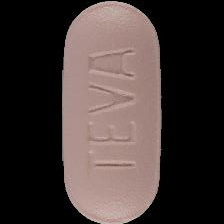0093-8238: (0, 0, 224, 224)
